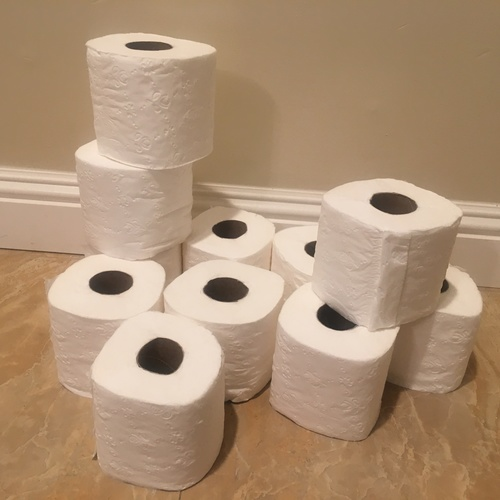roll: (92, 314, 225, 491), (314, 177, 464, 329), (270, 283, 398, 442), (86, 31, 215, 169), (165, 259, 282, 404), (48, 255, 164, 398), (73, 139, 190, 261), (386, 265, 481, 394), (182, 204, 275, 278), (270, 224, 324, 308)
